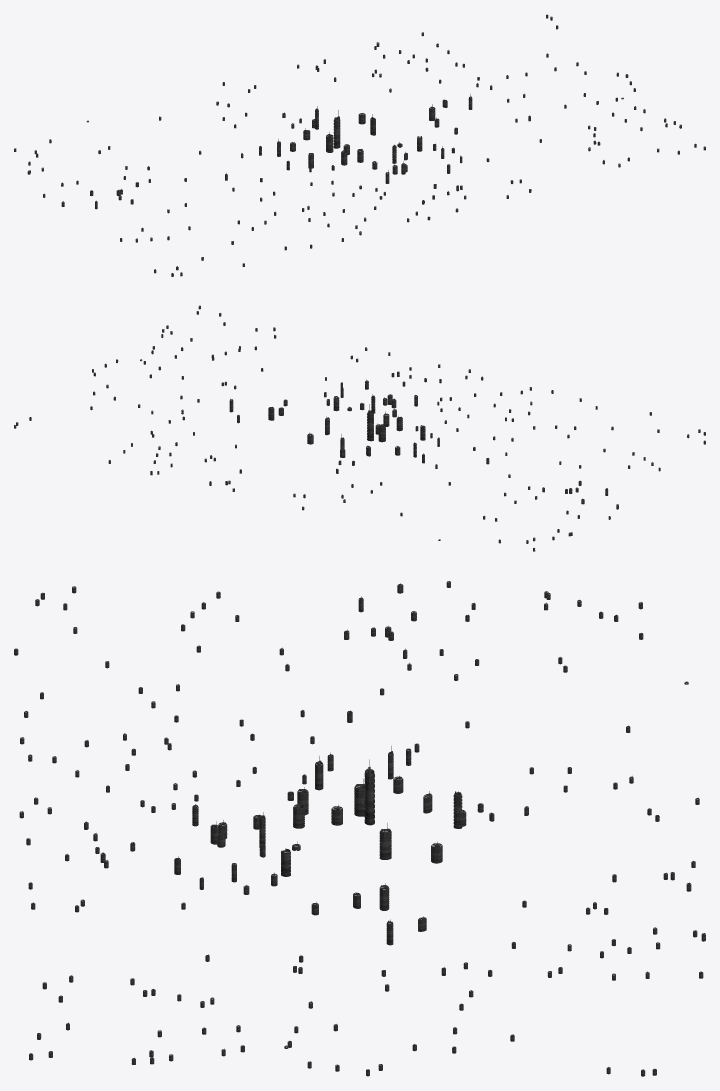
3 views of the same model, one above another, from view 1: azimuth 30°, elevation 25°; view 2: azimuth 150°, elevation 25°; view 3: azimuth 270°, elevation 25° (orthographic). The views are drawn at different scales.
Parts seen in each view (by area): view 1: Scatter city_SC low-poly building facade_0.018, Scatter city_SC low-poly building facade_0.020, Scatter city_SC low-poly building facade_0.017, Scatter city_SC low-poly building facade_0.015, Scatter city_SC low-poly building facade_0.016, Scatter city_SC low-poly building facade_0.019; view 2: Scatter city_SC low-poly building facade_0.018, Scatter city_SC low-poly building facade_0.020, Scatter city_SC low-poly building facade_0.017, Scatter city_SC low-poly building facade_0.015, Scatter city_SC low-poly building facade_0.016, Scatter city_SC low-poly building facade_0.019; view 3: Scatter city_SC low-poly building facade_0.018, Scatter city_SC low-poly building facade_0.017, Scatter city_SC low-poly building facade_0.020, Scatter city_SC low-poly building facade_0.015, Scatter city_SC low-poly building facade_0.016, Scatter city_SC low-poly building facade_0.019.
Boxes of the visible parts, <box> form: Scatter city_SC low-poly building facade_0.018: <box>28,62,679,220</box>; Scatter city_SC low-poly building facade_0.020: <box>61,43,642,276</box>; Scatter city_SC low-poly building facade_0.017: <box>34,16,696,270</box>; Scatter city_SC low-poly building facade_0.015: <box>14,25,681,260</box>; Scatter city_SC low-poly building facade_0.016: <box>28,42,675,273</box>; Scatter city_SC low-poly building facade_0.019: <box>95,14,705,276</box>; Scatter city_SC low-poly building facade_0.018: <box>93,313,579,541</box>; Scatter city_SC low-poly building facade_0.020: <box>90,328,700,509</box>; Scatter city_SC low-poly building facade_0.017: <box>16,311,689,543</box>; Scatter city_SC low-poly building facade_0.015: <box>29,325,659,551</box>; Scatter city_SC low-poly building facade_0.016: <box>92,329,705,536</box>; Scatter city_SC low-poly building facade_0.019: <box>14,305,705,503</box>; Scatter city_SC low-poly building facade_0.018: <box>19,599,688,1070</box>; Scatter city_SC low-poly building facade_0.017: <box>42,581,703,1076</box>; Scatter city_SC low-poly building facade_0.020: <box>14,583,691,1068</box>; Scatter city_SC low-poly building facade_0.015: <box>24,591,660,1074</box>; Scatter city_SC low-poly building facade_0.016: <box>20,586,705,1076</box>; Scatter city_SC low-poly building facade_0.019: <box>28,592,674,1075</box>.
Size of the model in its own units: 49.22 by 3.14 by 29.32.
Materials: 1 (1 with a texture image).
